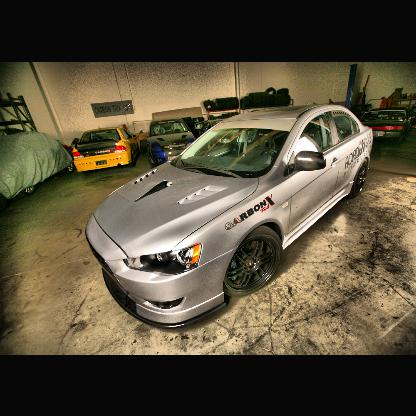Mitsubishi Lancer Sedan 2012: (84, 102, 374, 334)
